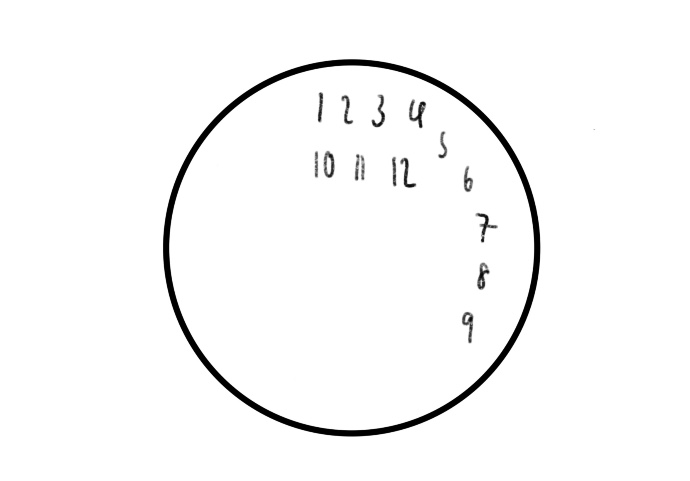eight: (475, 259, 492, 291)
eleven: (353, 151, 369, 182)
five: (436, 129, 452, 159)
four: (407, 94, 428, 131)
nine: (459, 310, 477, 345)
one: (315, 88, 330, 125)
seven: (475, 213, 499, 244)
six: (461, 163, 477, 194)
ten: (312, 143, 339, 183)
three: (369, 92, 389, 130)
twelve: (389, 152, 420, 193)
two: (338, 93, 358, 123)
